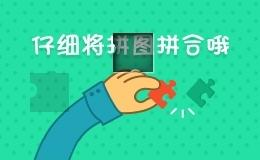target: (91, 13, 133, 52)
